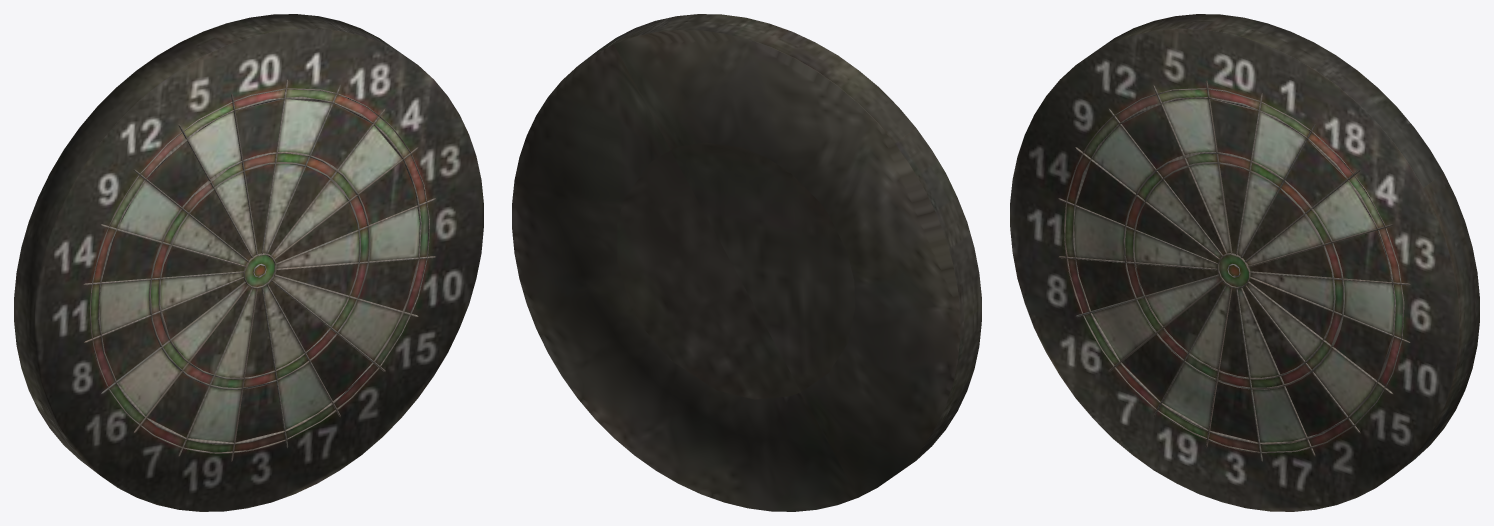
The model's file is dartboard.glb.
The picture shows the model from 3 angles, left to right: view 1: azimuth 30°, elevation 25°; view 2: azimuth 150°, elevation 25°; view 3: azimuth 330°, elevation 25°; orthographic projection.
Visible parts, largest first — view 1: dartboard; view 2: dartboard; view 3: dartboard.
Part boxes in pixels (x1,y1,x2,y2): dartboard: (14,14,483,511); dartboard: (512,14,981,511); dartboard: (1010,14,1479,511).
Size of the model in its own units: 0.4507 by 0.4507 by 0.0398.
1 material, 1 textured.
